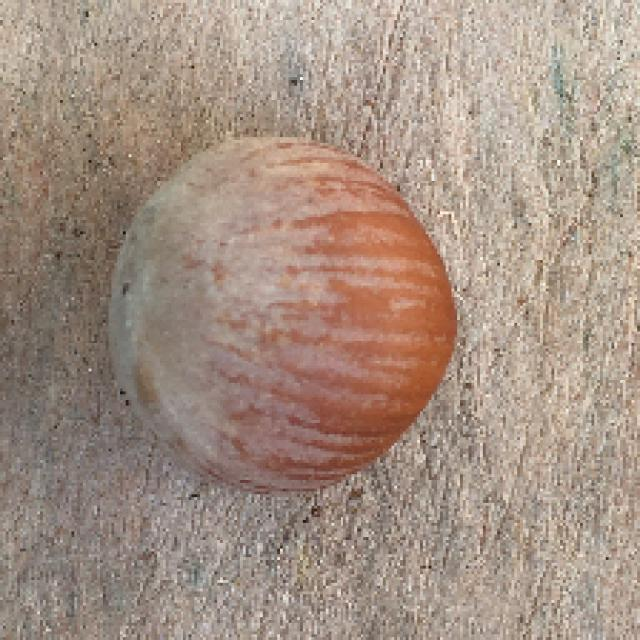QualityHazelnut: (106, 136, 456, 498)
